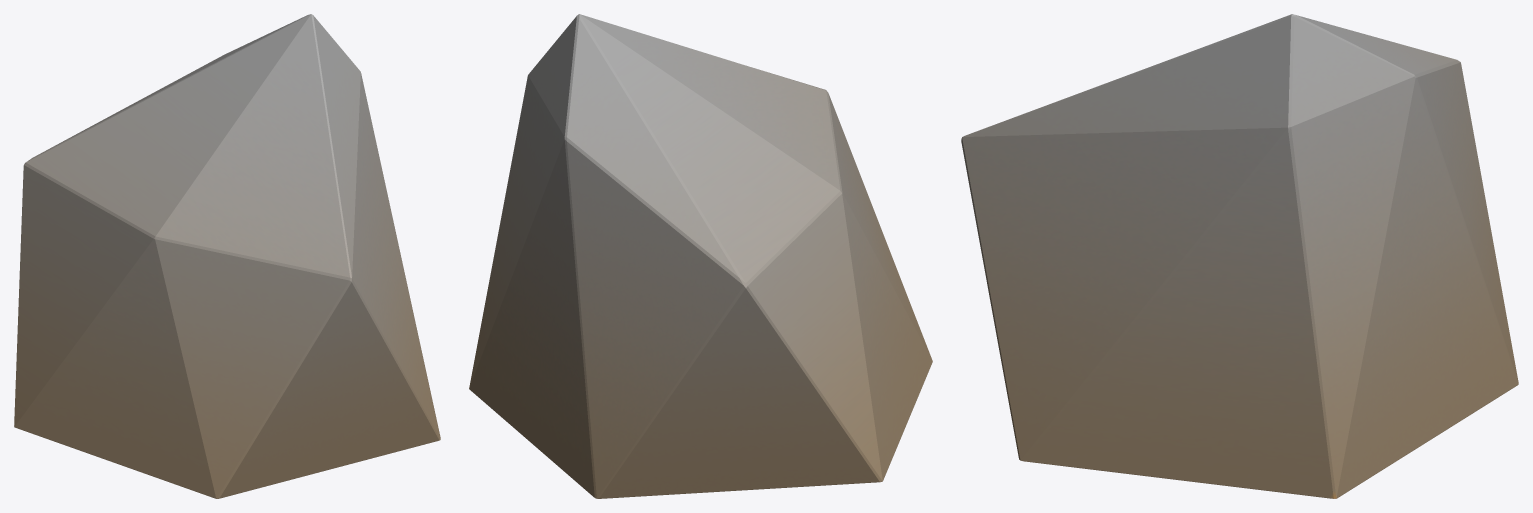
Rendered from Snow rock.fbx.
3 renders of one model, left to right at view 1: azimuth 30°, elevation 25°; view 2: azimuth 150°, elevation 25°; view 3: azimuth 270°, elevation 25°, orthographic. The views are drawn at different scales.
Visible parts, largest first — view 1: Snow rock 1; view 2: Snow rock 1; view 3: Snow rock 1.
Part boxes in pixels (left/top/right/bottom): Snow rock 1: left=14, top=14, right=440, bottom=498; Snow rock 1: left=469, top=14, right=932, bottom=498; Snow rock 1: left=961, top=14, right=1518, bottom=498.
Size of the model in its own units: 9.22 by 8.33 by 9.69.
